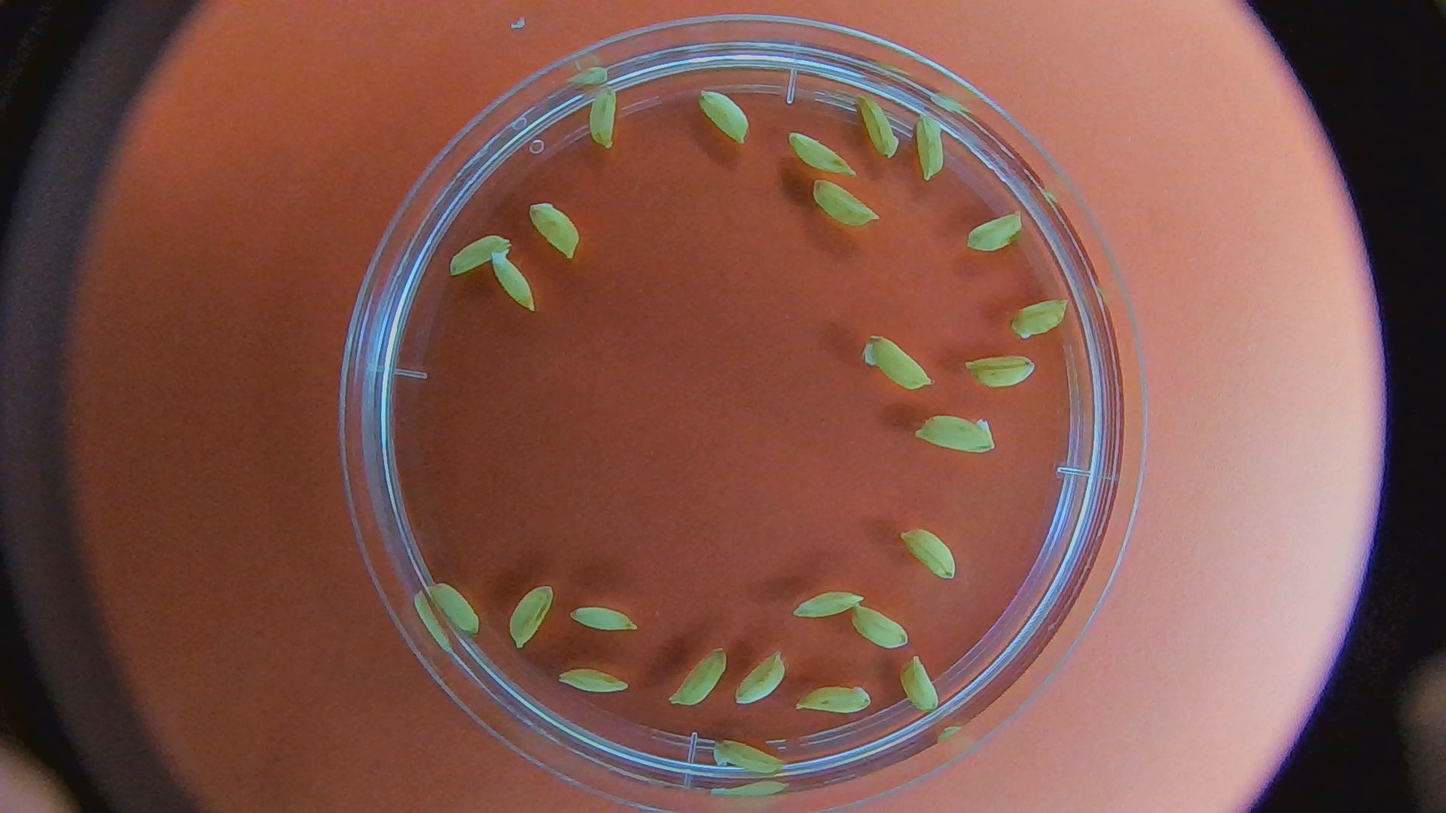no: (862, 330, 934, 392), (808, 178, 880, 230), (549, 659, 633, 703), (917, 413, 999, 455), (800, 679, 877, 723), (674, 647, 727, 708), (903, 525, 959, 582), (733, 649, 787, 708), (428, 577, 480, 637), (529, 200, 581, 259), (508, 580, 555, 645), (712, 741, 786, 781), (786, 131, 850, 176), (697, 91, 751, 142), (966, 206, 1025, 251), (861, 96, 902, 160), (490, 252, 536, 309), (898, 652, 940, 712), (450, 236, 507, 278), (791, 585, 865, 617), (568, 602, 642, 633), (856, 604, 909, 647), (967, 353, 1030, 389), (1010, 295, 1063, 336), (915, 111, 945, 180), (587, 86, 618, 150)
